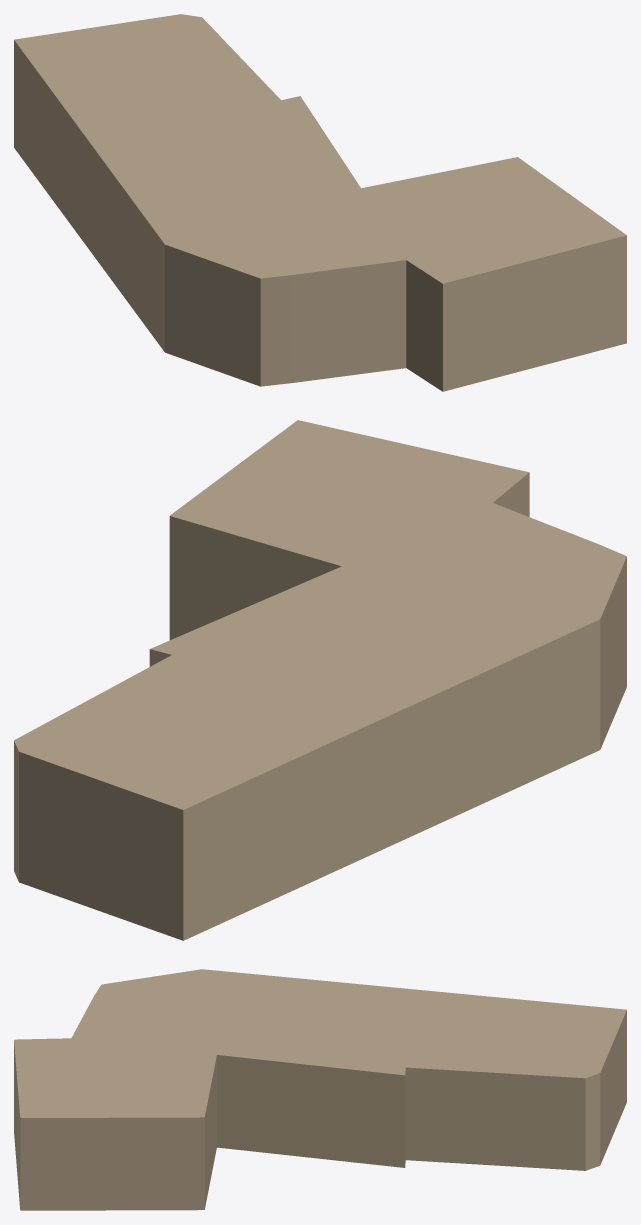
File: bld_97760491.dae
The picture shows the model from 3 angles, top to bottom: view 1: azimuth 30°, elevation 25°; view 2: azimuth 150°, elevation 25°; view 3: azimuth 270°, elevation 25°; orthographic projection. The views are drawn at different scales.
Parts seen in each view (by area): view 1: Iceland; view 2: Iceland; view 3: Iceland.
Boxes of the visible parts, x1,y1,x2,y2 form: Iceland: (14, 14, 626, 391); Iceland: (14, 420, 626, 940); Iceland: (14, 969, 626, 1210).
Size of the model in its own units: 27.58 by 47.97 by 8.
